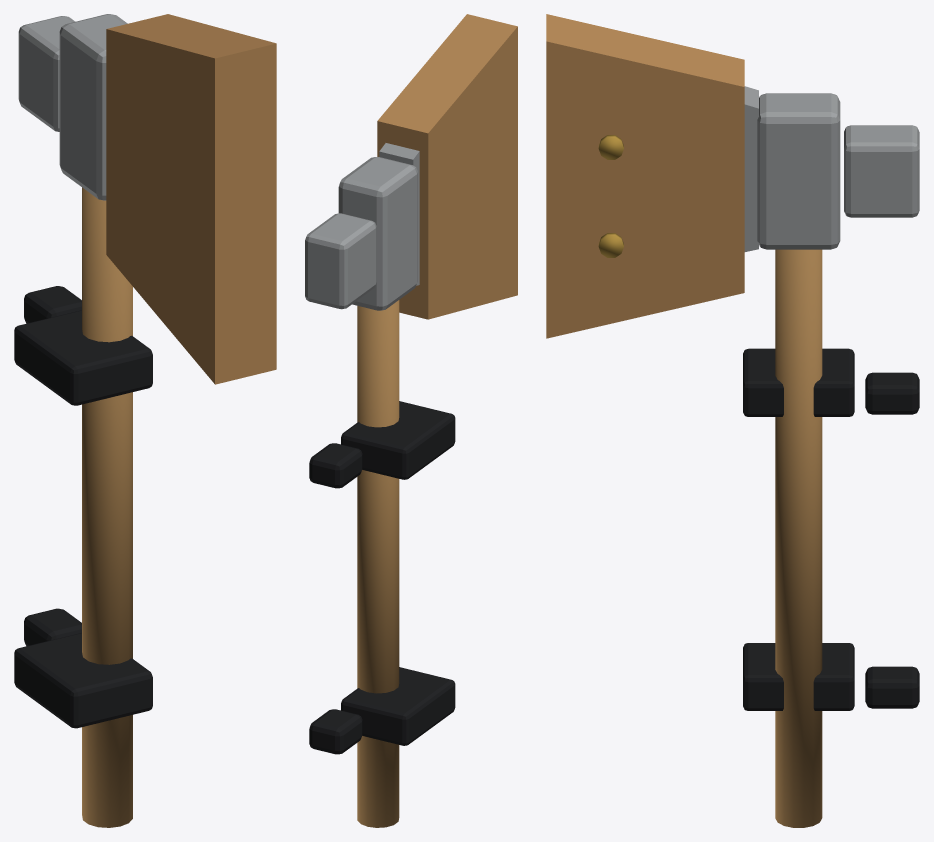
Rendered from guardAxe_left.glb.
The picture shows the model from 3 angles, left to right: view 1: azimuth 30°, elevation 25°; view 2: azimuth 150°, elevation 25°; view 3: azimuth 270°, elevation 25°; orthographic projection. The views are drawn at different scales.
Visible parts, largest first — view 1: sheath.001, handle.002, axeClamp1380.001, axeClamp1200.001, eye.001, poll.001, shackle1380.001, shackle1200.001; view 2: sheath.001, handle.002, eye.001, poll.001, axeClamp1200.001, axeClamp1380.001, shackle1380.001, shackle1200.001, bit.001; view 3: sheath.001, handle.002, eye.001, poll.001, axeClamp1380.001, axeClamp1200.001, bit.001, shackle1380.001, shackle1200.001.
Part boxes in pixels (x1,y1,x2,y2): sheath.001: [106, 14, 276, 384]; handle.002: [82, 187, 132, 827]; axeClamp1380.001: [14, 310, 152, 405]; axeClamp1200.001: [14, 633, 152, 728]; eye.001: [59, 14, 127, 200]; poll.001: [18, 16, 74, 131]; shackle1380.001: [24, 286, 81, 323]; shackle1200.001: [24, 608, 81, 646]; sheath.001: [377, 14, 517, 319]; handle.002: [357, 300, 399, 827]; eye.001: [338, 157, 417, 310]; poll.001: [305, 213, 376, 309]; axeClamp1200.001: [341, 667, 455, 745]; axeClamp1380.001: [341, 401, 455, 479]; shackle1380.001: [309, 443, 362, 488]; shackle1200.001: [309, 709, 362, 754]; bit.001: [379, 143, 419, 285]; sheath.001: [546, 14, 744, 338]; handle.002: [775, 249, 822, 827]; eye.001: [757, 93, 840, 249]; poll.001: [844, 125, 919, 217]; axeClamp1380.001: [743, 348, 854, 416]; axeClamp1200.001: [743, 643, 854, 710]; bit.001: [744, 86, 758, 251]; shackle1380.001: [865, 372, 919, 414]; shackle1200.001: [865, 666, 919, 708].
Size of the model in its own units: 0.06 by 0.484 by 0.207.
